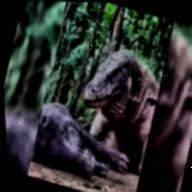boar: (18, 86, 139, 192)
